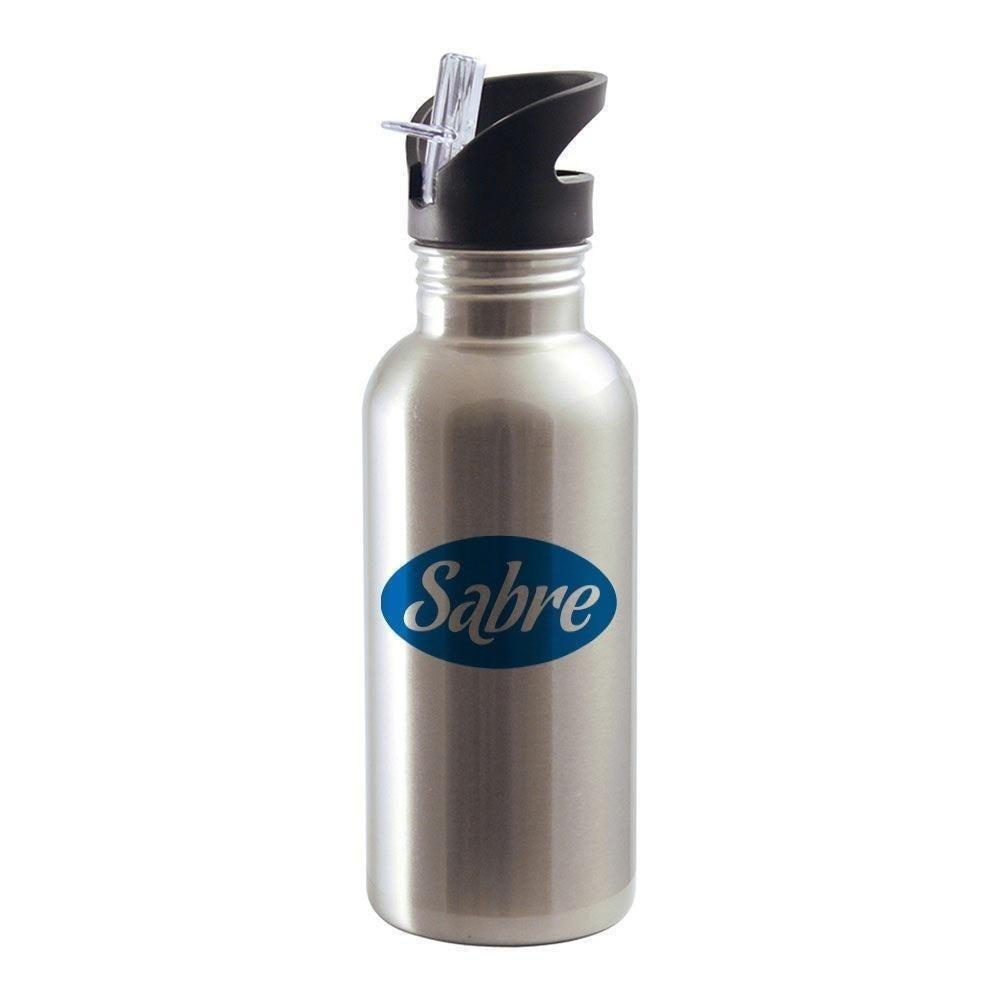gym bottle: (361, 53, 641, 948)
